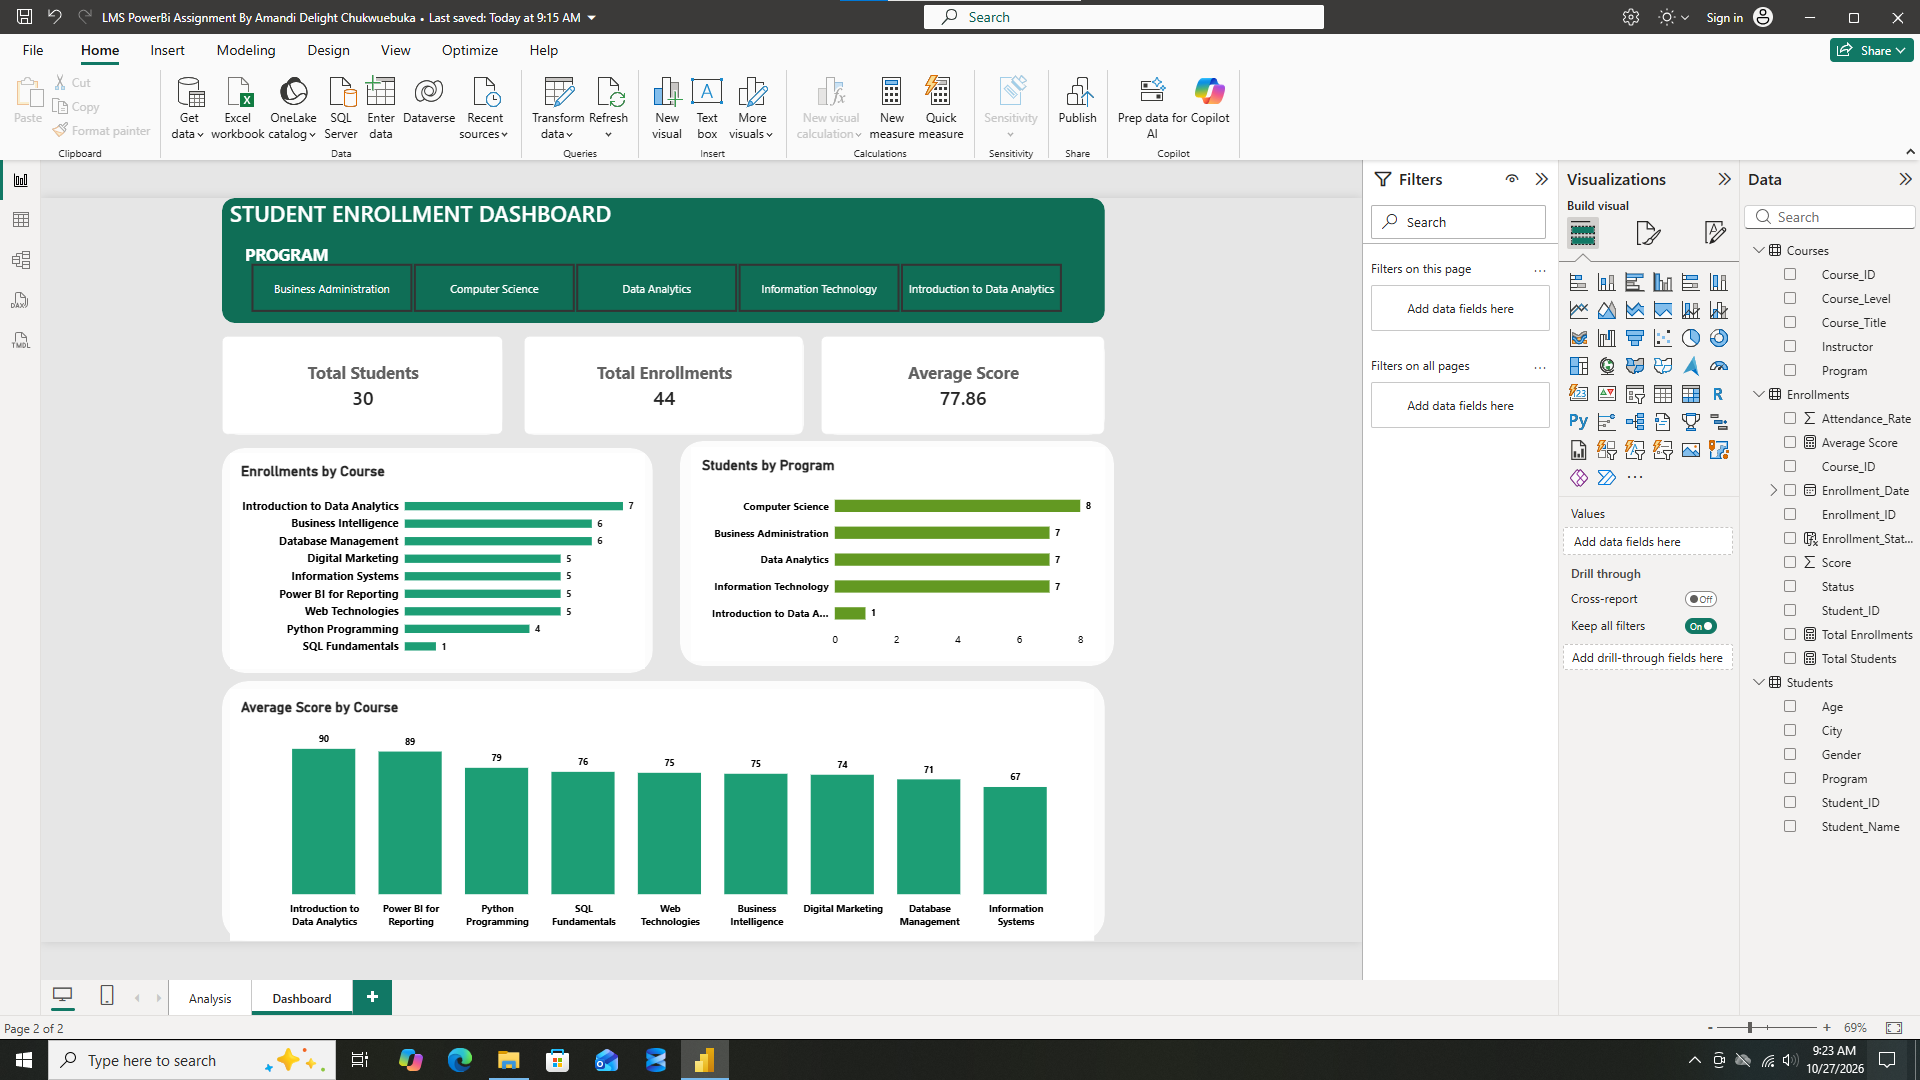

Layout of this report page (visuals, bound fields, positions):
{"tool":"powerbi","page":{"name":"Dashboard","canvas":[1920,1080],"ordinal":1},"visuals":[{"type":"shape","box":[263.1,0,1283.4,181.7],"z":0},{"type":"shape","box":[263.1,200.6,408.4,143.9],"z":1000},{"type":"shape","box":[1133.7,200.6,412.8,143.9],"z":2000},{"type":"shape","box":[702,200.6,407,143.9],"z":3000},{"type":"shape","box":[263.1,363.4,626.4,327],"z":4000},{"type":"shape","box":[263.1,702,1283.4,377.9],"z":5000},{"type":"shape","box":[915.7,363.4,630.8,327],"z":6000},{"type":"textbox","box":[274.5,0,1229.5,65.7],"z":7000},{"type":"slicer","fields":{"Values":["Students.Department"]},"box":[285.2,91.1,1218.3,76.1],"z":8000},{"type":"textbox","box":[297.1,65.7,247.8,32.8],"z":8001},{"type":"cardVisual","fields":{"Data":["Enrollments.Total Enrollments"]},"box":[743.5,213.5,343.4,119.4],"z":8002},{"type":"cardVisual","fields":{"Data":["Enrollments.Total Student"]},"box":[297.1,210.5,350.9,123.9],"z":8003},{"type":"cardVisual","fields":{"Data":["Enrollments.Average Score"]},"box":[1175,210.5,295.6,122.4],"z":8004}]}

Visuals, with their boxes on the page's 1920x1080 design canvas (x1, y1, x2, y2). These are canvas units, not pixel positions in the 1920x1080 screenshot, which may show the page scaled, cropped or inside an application window:
shape: select_region(263, 0, 1546, 182)
shape: select_region(263, 201, 672, 344)
shape: select_region(1134, 201, 1546, 344)
shape: select_region(702, 201, 1109, 344)
shape: select_region(263, 363, 890, 690)
shape: select_region(263, 702, 1546, 1080)
shape: select_region(916, 363, 1546, 690)
textbox: select_region(274, 0, 1504, 66)
slicer - Students.Department: select_region(285, 91, 1504, 167)
textbox: select_region(297, 66, 545, 98)
cardVisual - Enrollments.Total Enrollments: select_region(744, 214, 1087, 333)
cardVisual - Enrollments.Total Student: select_region(297, 210, 648, 334)
cardVisual - Enrollments.Average Score: select_region(1175, 210, 1471, 333)
